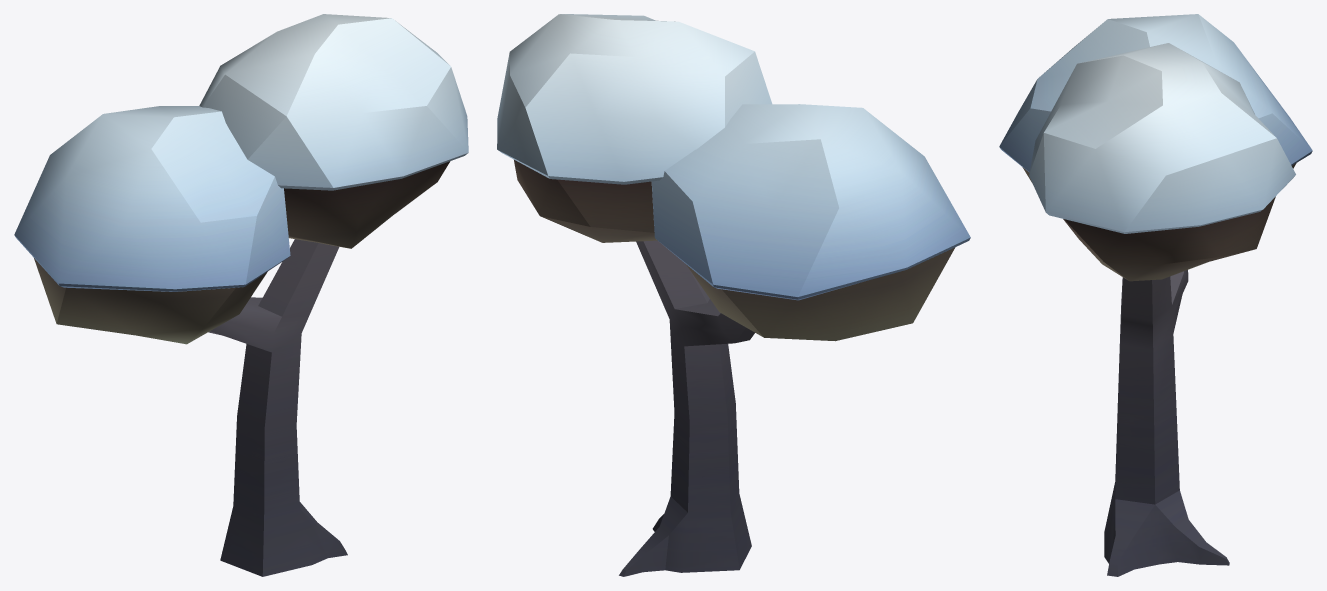
The model's file is SM_OakTree_02.fbx.
The picture shows the model from 3 angles, left to right: view 1: azimuth 30°, elevation 25°; view 2: azimuth 150°, elevation 25°; view 3: azimuth 270°, elevation 25°; orthographic projection. The views are drawn at different scales.
Visible parts, largest first — view 1: Laub-1; view 2: Laub-1; view 3: Laub-1.
Boxes of the visible parts, x1,y1,x2,y2 form: Laub-1: (14, 14, 468, 576); Laub-1: (497, 14, 970, 576); Laub-1: (999, 14, 1312, 576).
Bounding box in the file's own units: 867 × 992 × 550.
Materials: 1 (1 with a texture image).
